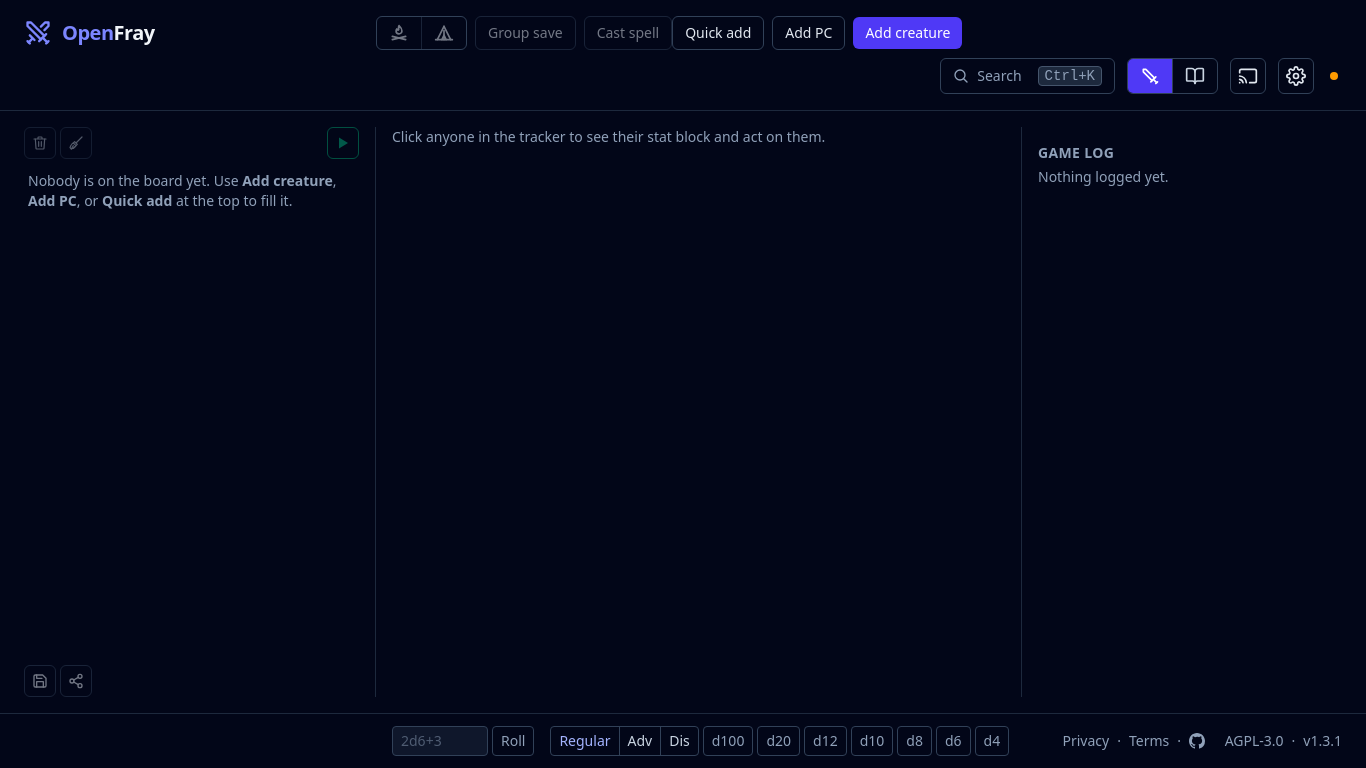
Test: Encounter flow › keeps automatic labeling after accepting an unchanged name
Click the button "Add creature". click: (908, 33)
box: [853,17,962,49]
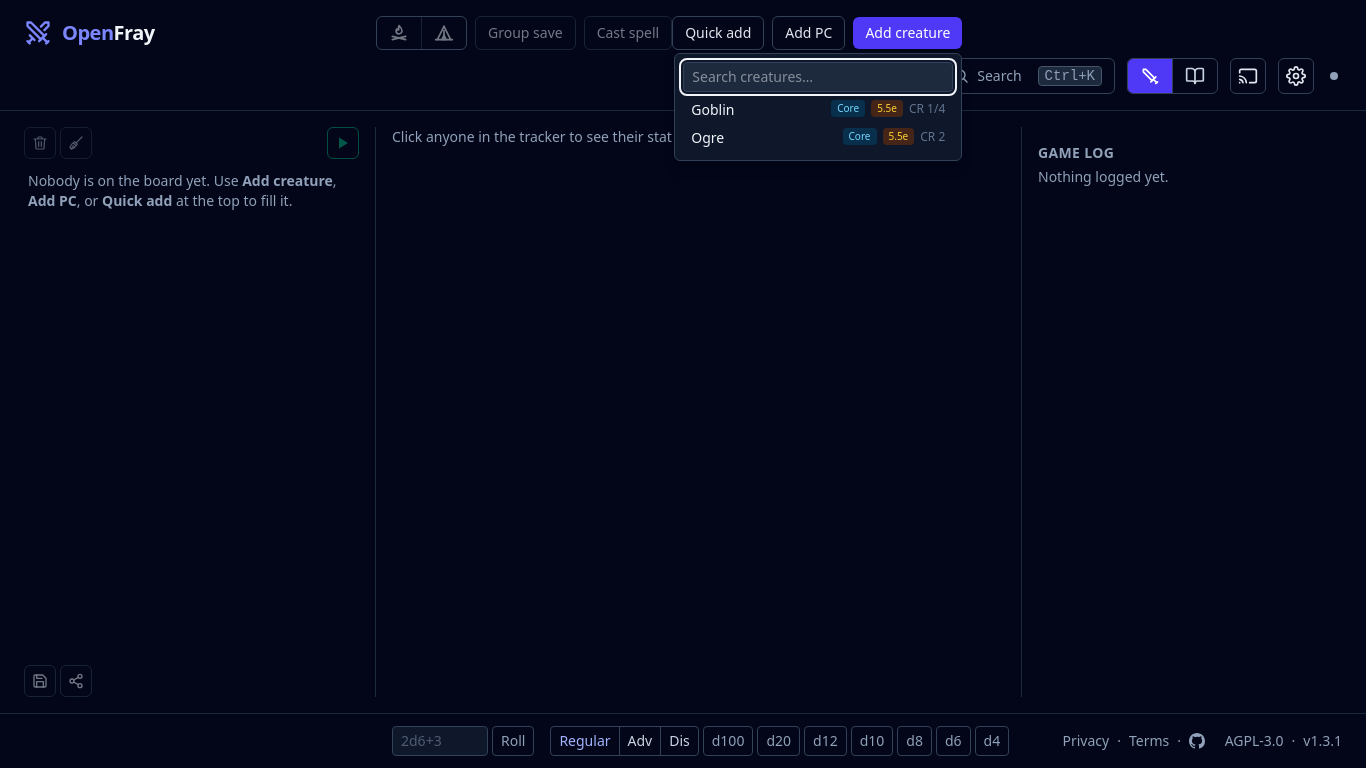
Expected: the text "Goblin" is shown
Click the text "Goblin". click: (713, 110)
box: [691,100,734,120]
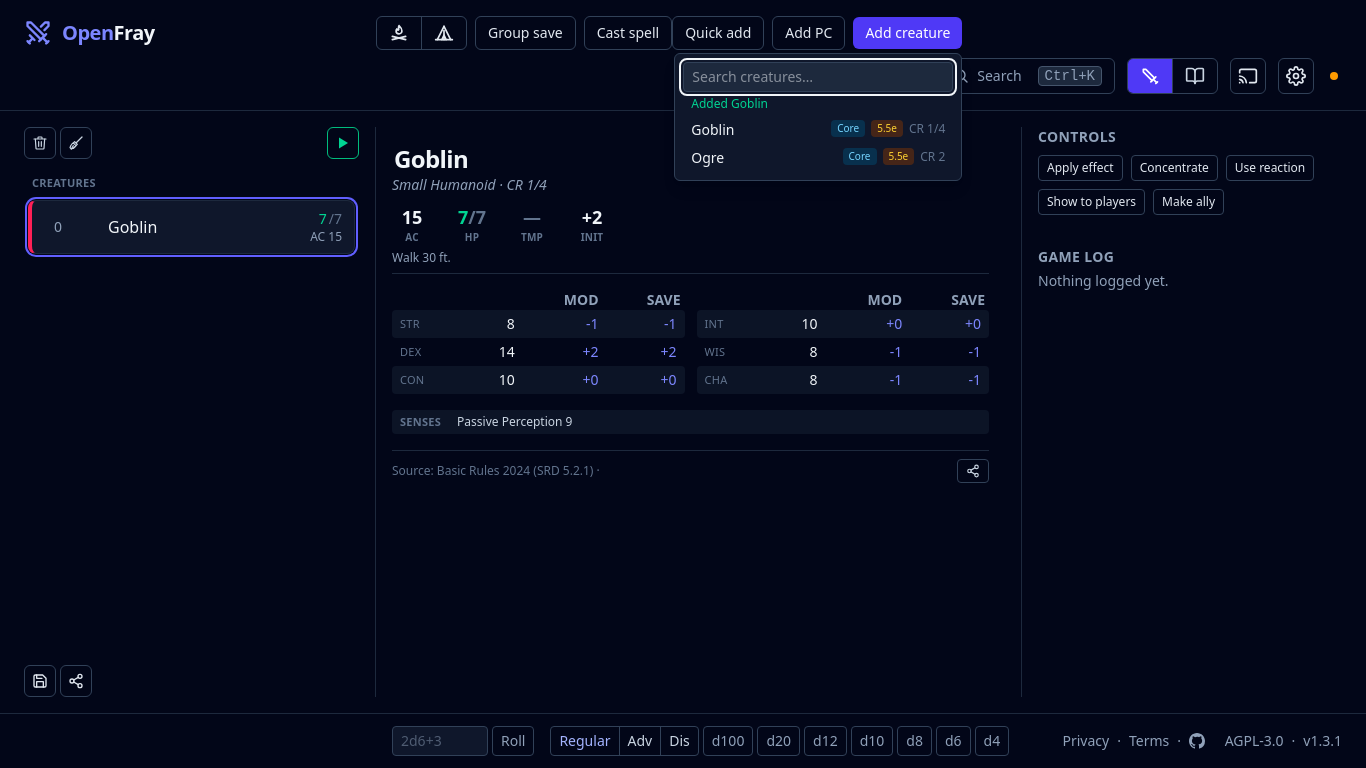
Click the 1st button titled "Rename — changes how it appears in the tracker". click: (431, 159)
box: [392,143,470,175]
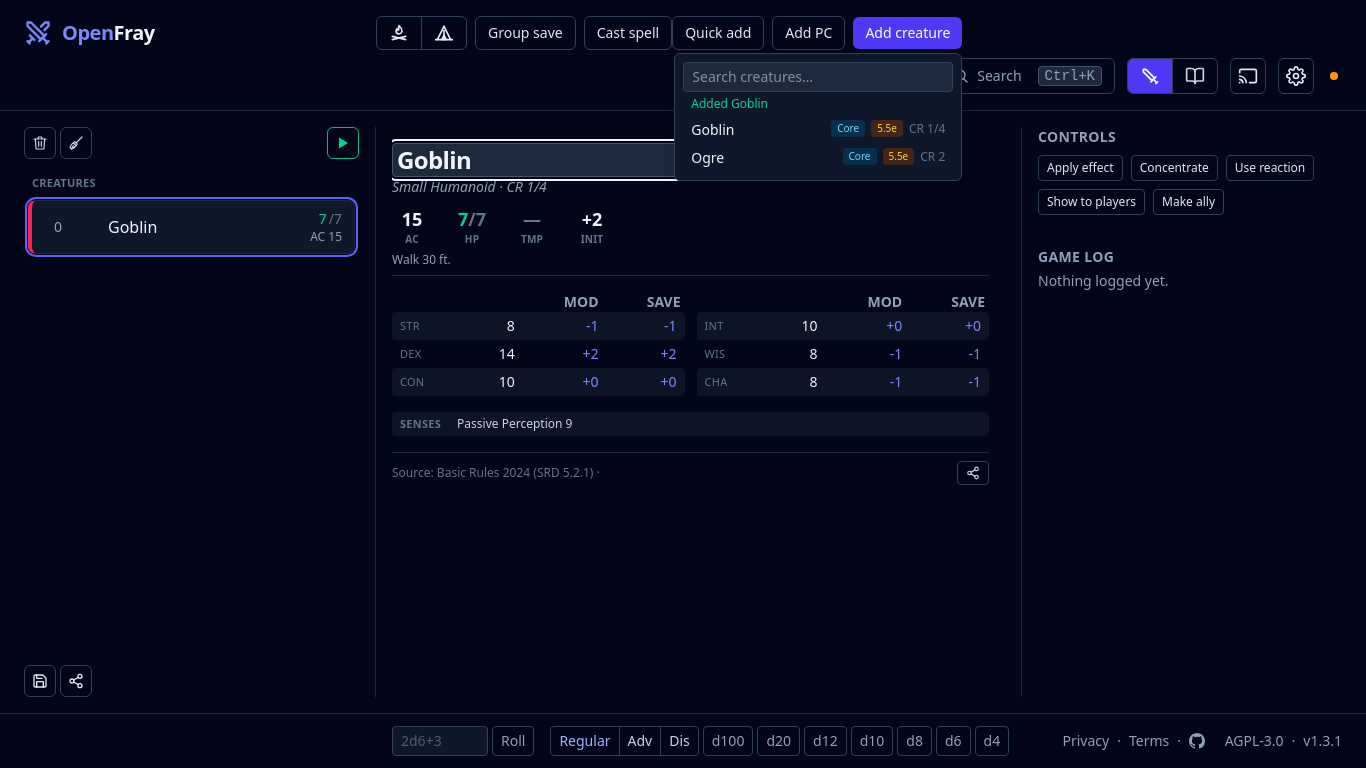
Press Enter in the field showing "Goblin", box [392,143,770,177]
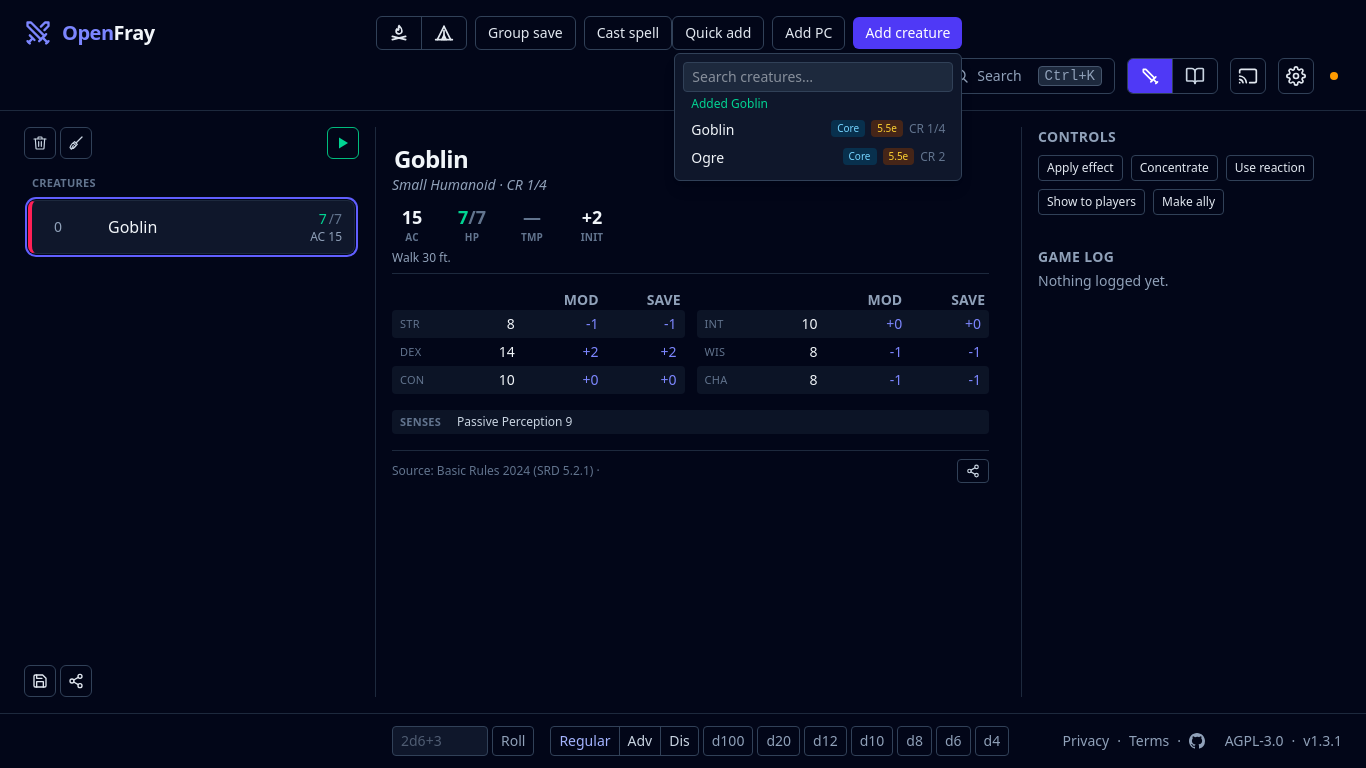
Click the text "Goblin". click: (713, 130)
box: [691,120,734,140]
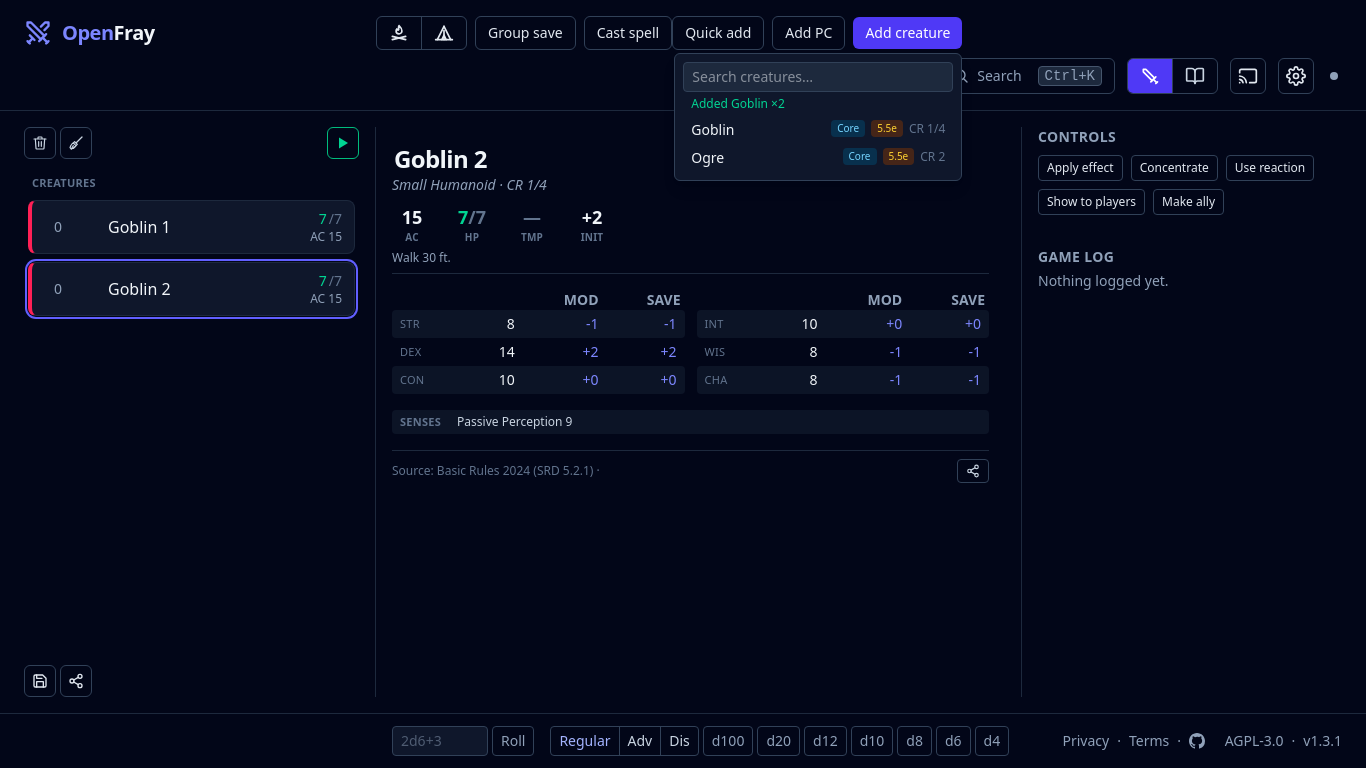
Expected: the button "Goblin 1" is shown, [108,214,171,238]
Expected: the button "Goblin 2" below "Creatures" is shown, [108,276,171,300]
